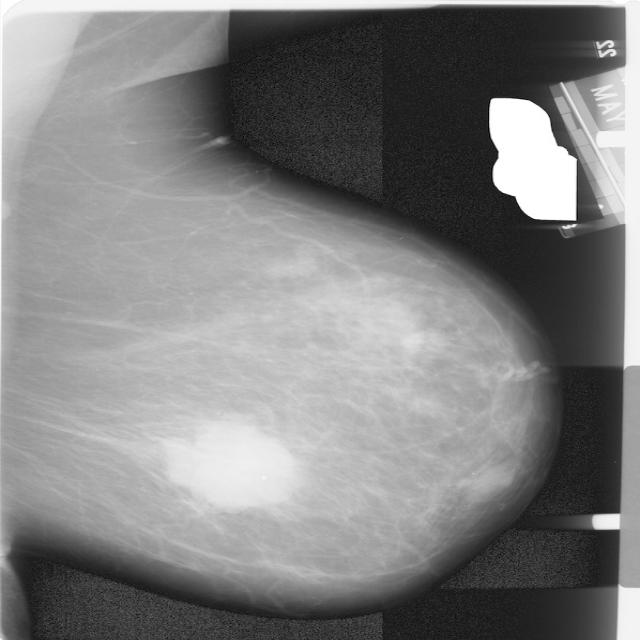tumour: (160, 421, 298, 512)
